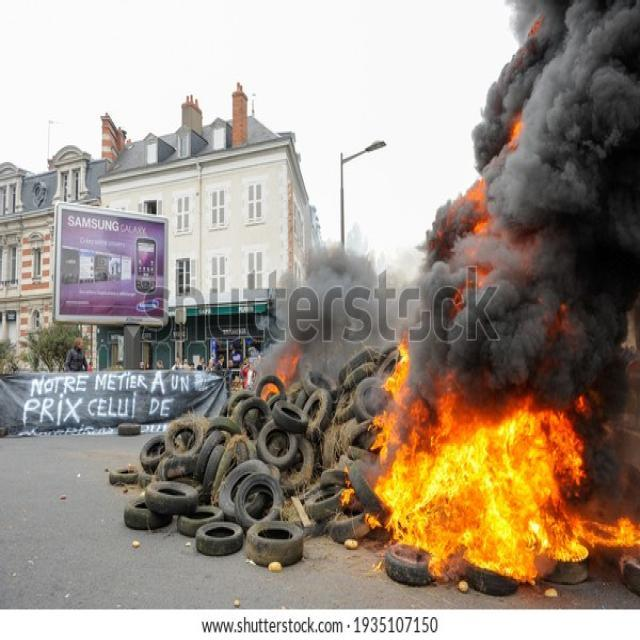Fire: (417, 424, 568, 548)
Smoke: (573, 10, 637, 284), (529, 80, 572, 220), (486, 161, 526, 214)
